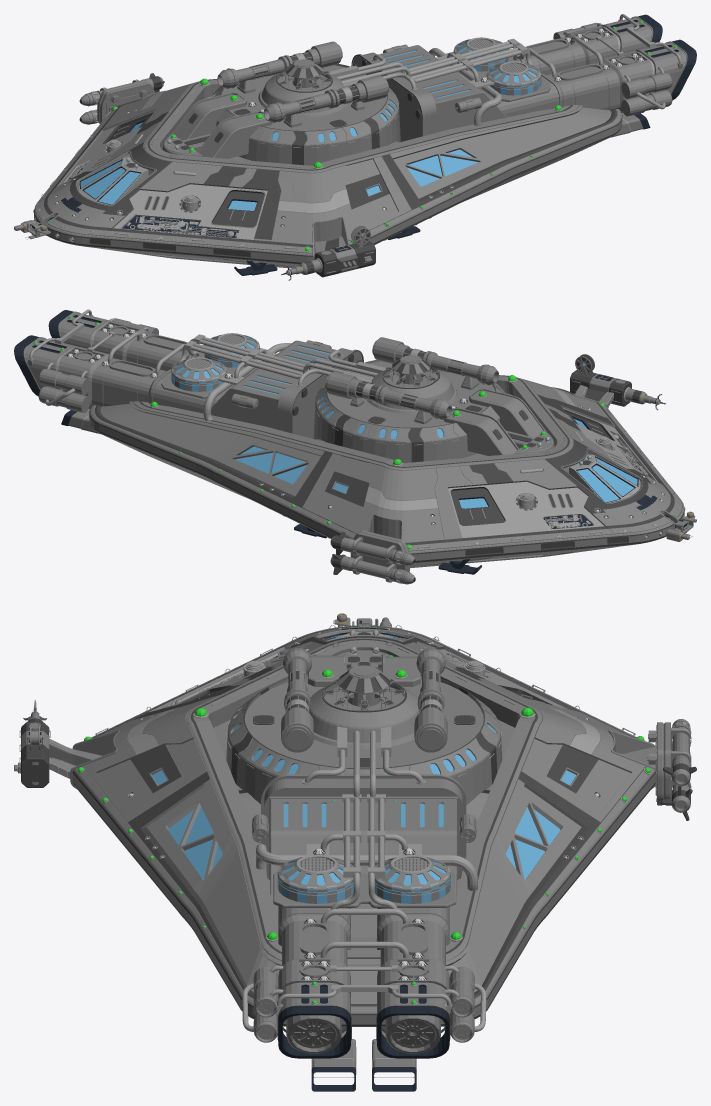
Rendered from spaceship.glb.
3 renders of one model, top to bottom at view 1: azimuth 30°, elevation 25°; view 2: azimuth 150°, elevation 25°; view 3: azimuth 270°, elevation 25°, orthographic. The views are drawn at different scales.
Parts seen in each view (by area): view 1: Ship.000_Plane.027; view 2: Ship.000_Plane.027; view 3: Ship.000_Plane.027.
Part boxes in pixels (x1,y1,x2,y2): Ship.000_Plane.027: [14, 14, 696, 280]; Ship.000_Plane.027: [14, 309, 696, 584]; Ship.000_Plane.027: [14, 613, 696, 1091].
Bounding box in the file's own units: 17.51 × 3.89 × 11.07.
1 material, 1 textured.
